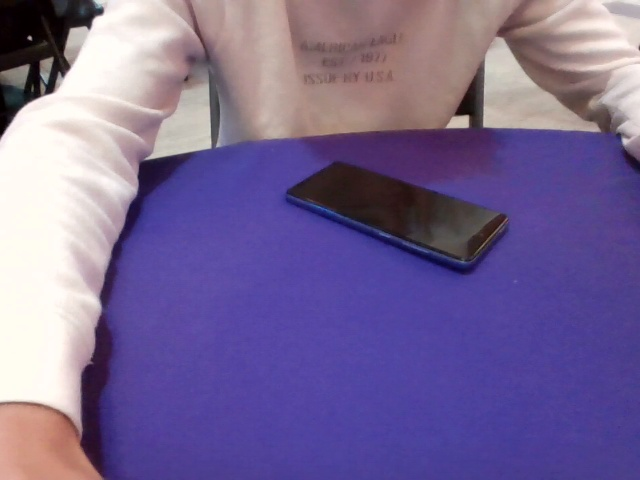celular: (285, 160, 511, 274)
